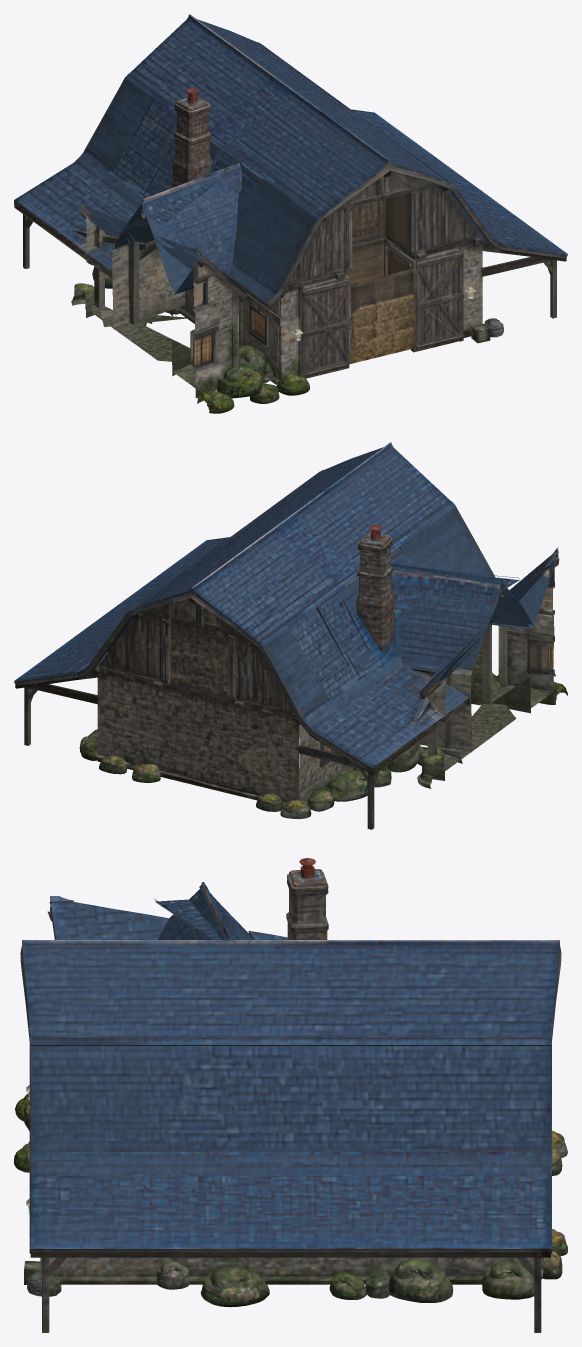
File: barn_stable_game.glb
The picture shows the model from 3 angles, top to bottom: view 1: azimuth 30°, elevation 25°; view 2: azimuth 150°, elevation 25°; view 3: azimuth 270°, elevation 25°; orthographic projection. The views are drawn at different scales.
Visible parts, largest first — view 1: geometry_0; view 2: geometry_0; view 3: geometry_0.
Part boxes in pixels (box(x1,y1,x2,y2)): geometry_0: box(14, 14, 567, 413); geometry_0: box(14, 442, 567, 829); geometry_0: box(14, 858, 567, 1332).
Bounding box in the file's own units: 23.79 × 14.55 × 23.48.
Materials: 1 (1 with a texture image).
